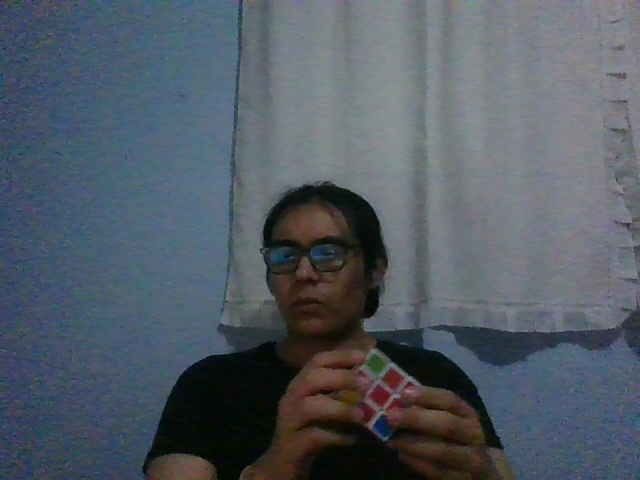rubik: (331, 348, 424, 442)
